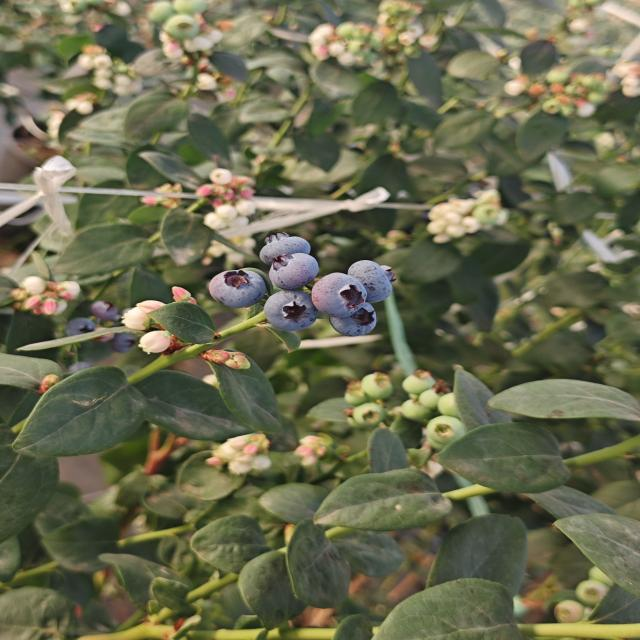ripe: (310, 271, 370, 320), (206, 267, 268, 310), (261, 289, 320, 333), (330, 300, 384, 345), (345, 259, 395, 304), (266, 251, 320, 291), (87, 297, 137, 324), (60, 313, 99, 342), (105, 331, 142, 360), (261, 234, 303, 253)
